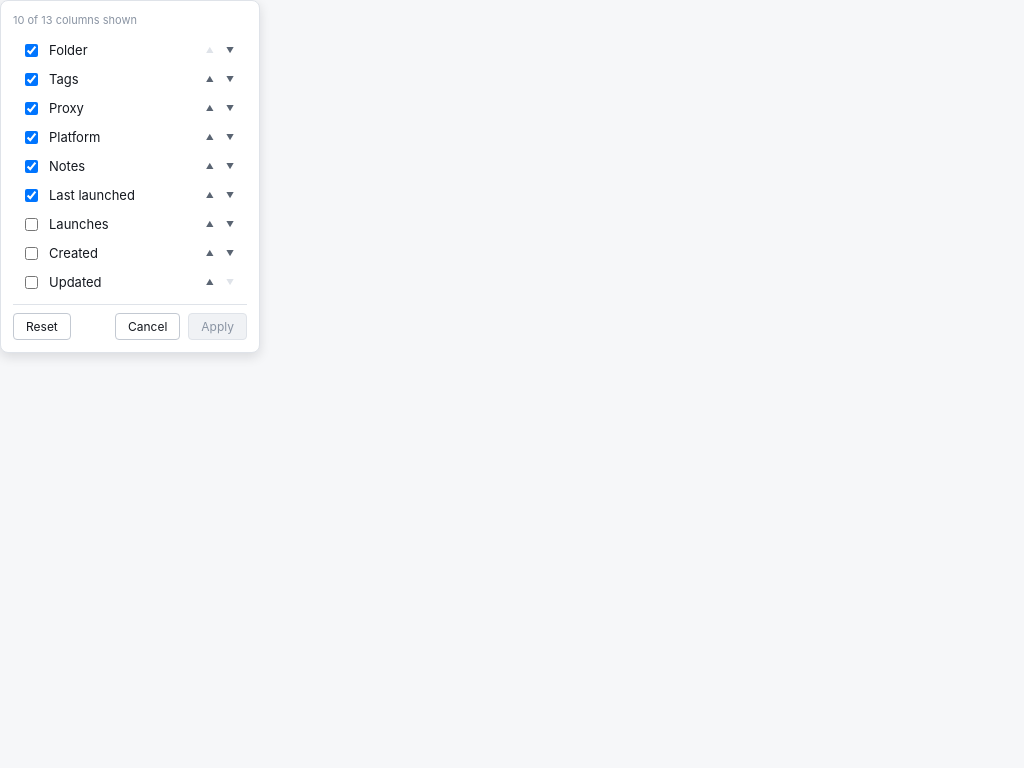
Scenario: ColumnManager › keeps Apply inert until something actually changed
The image size is (1024, 768).
Expected: the button "Apply" is disabled, [188,313,247,340]
What coordinates should you click on to do the following:
click the checkbox labelled "Tags"
I would click on:
 (32, 79)
Its box is [25,73,38,86].
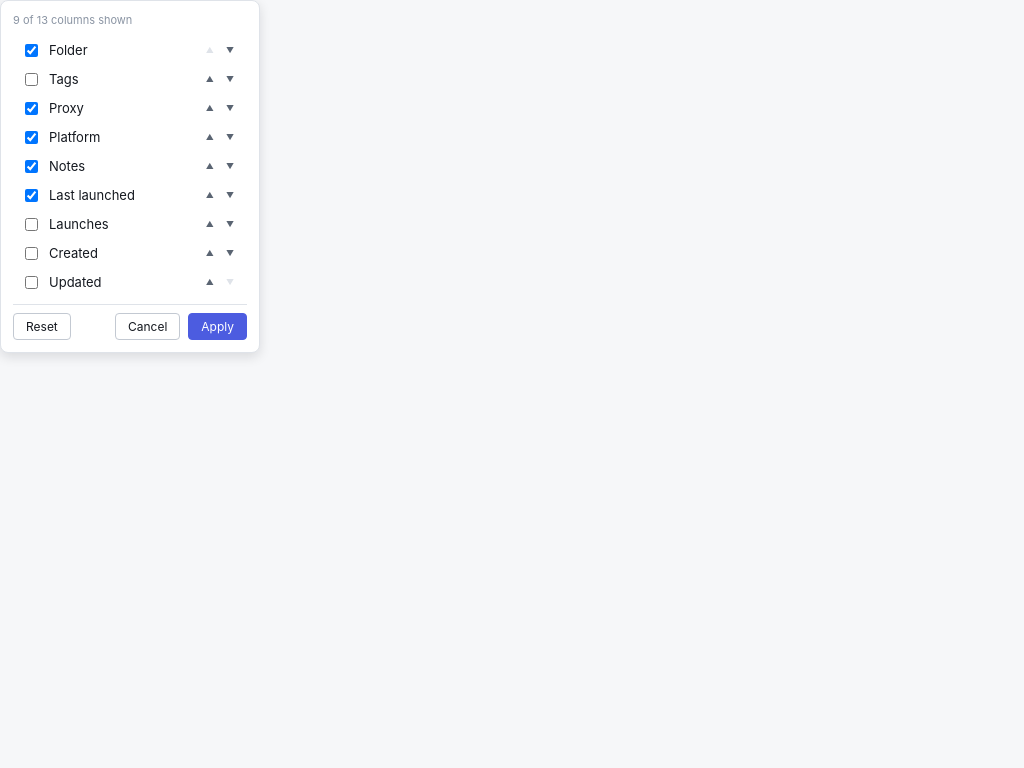
Result: the button "Apply" is enabled at [188,313,247,340]
